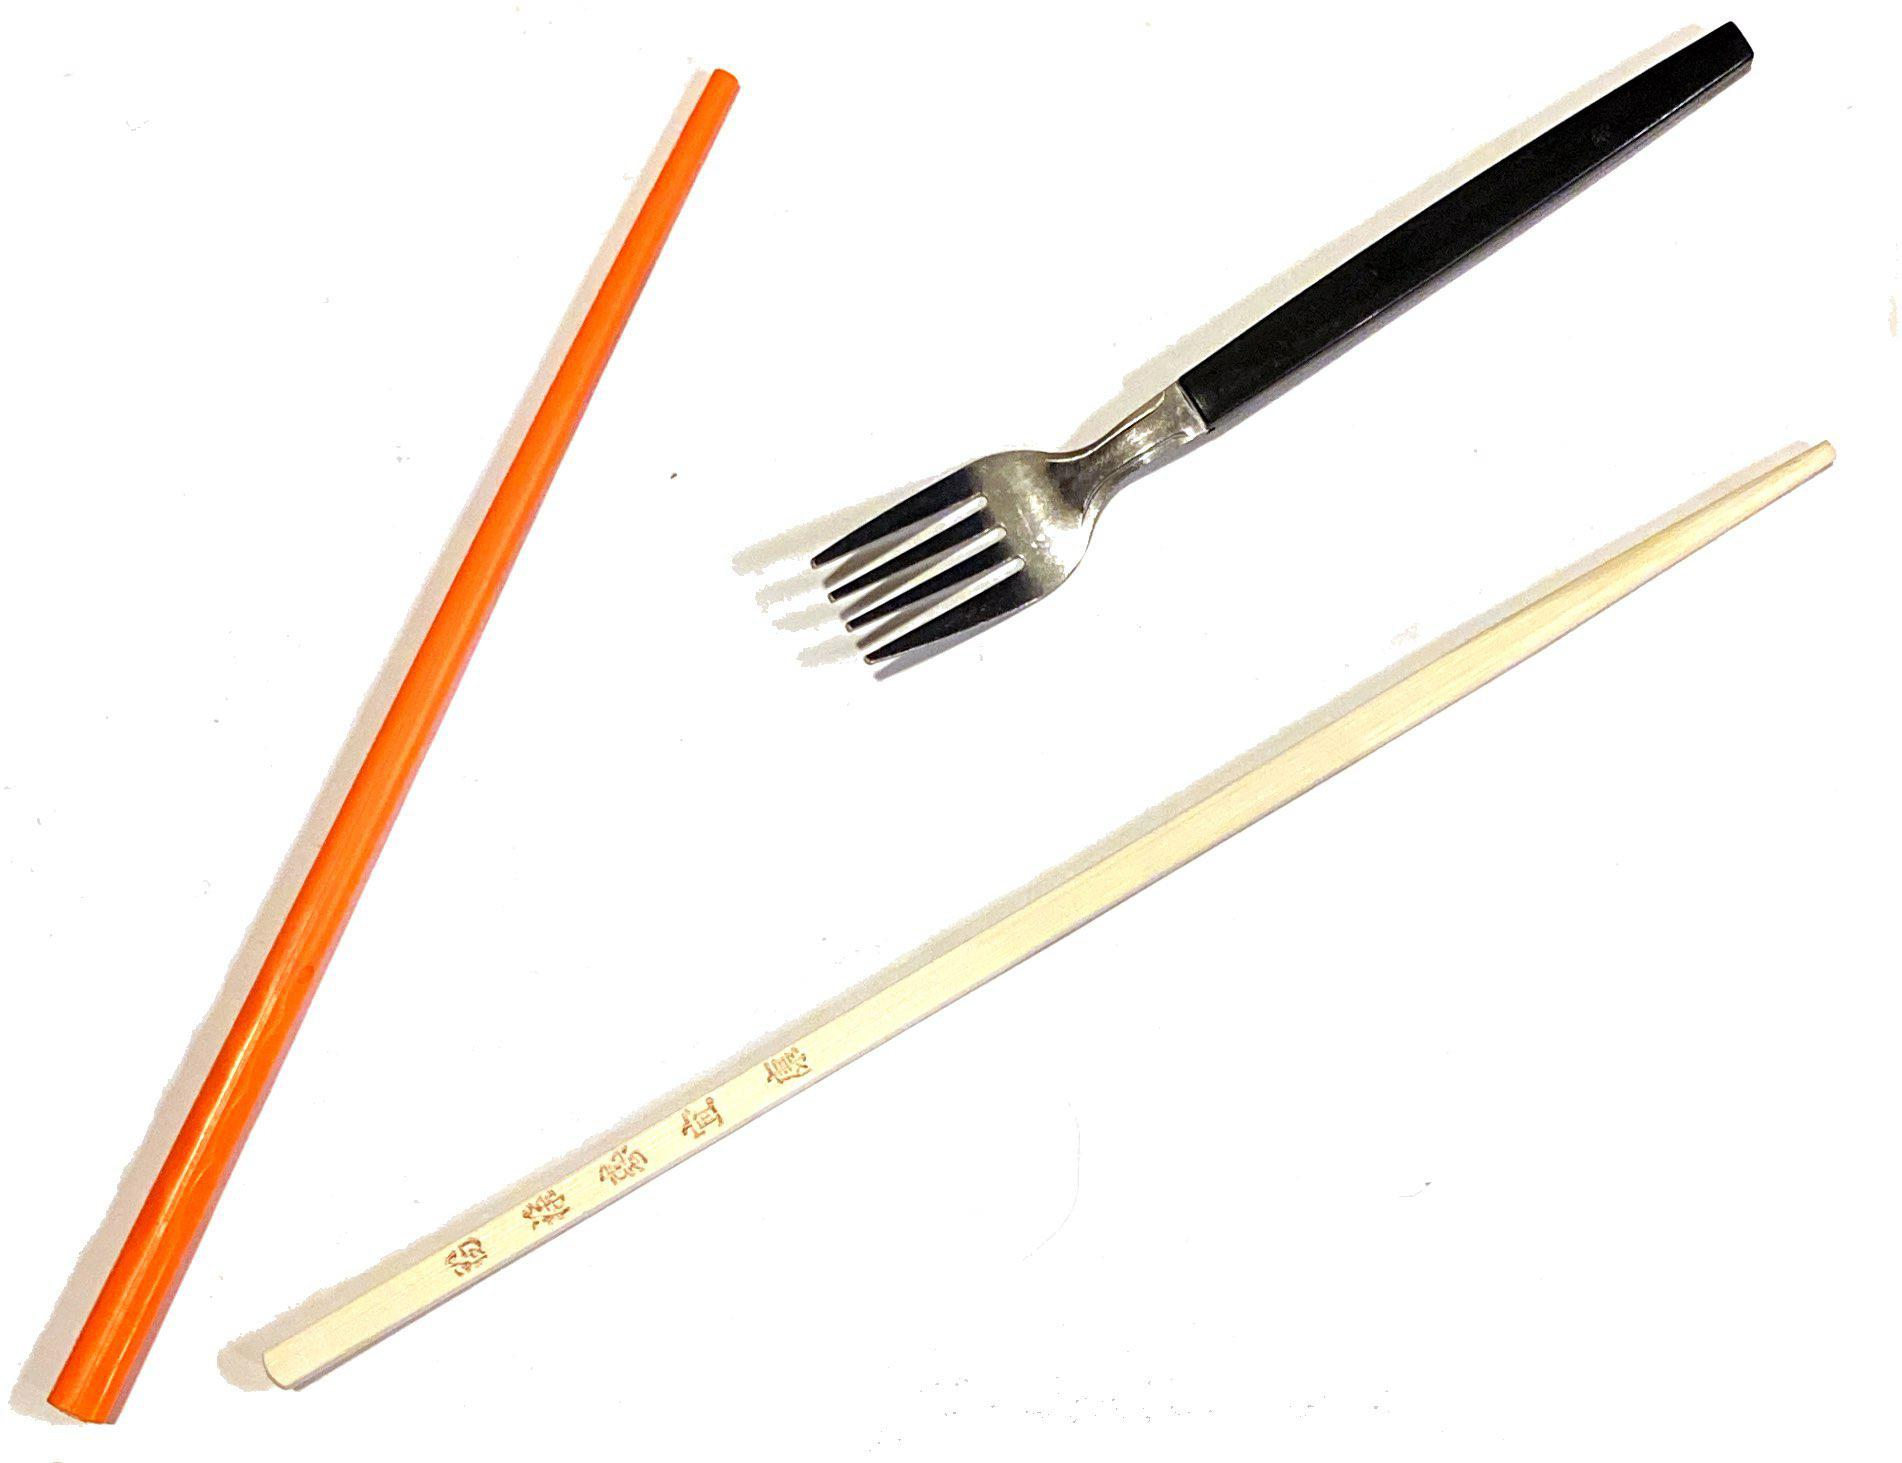Chopstick: (238, 398, 1844, 1428), (31, 71, 776, 1463)
Fork: (802, 2, 1779, 682)
